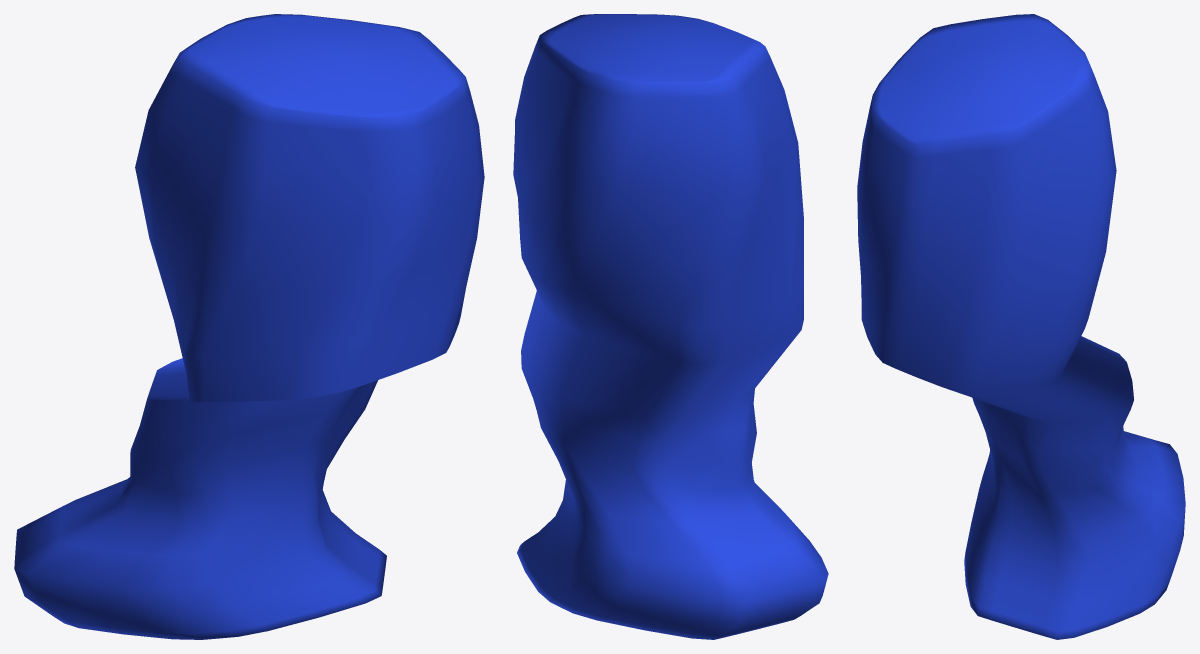
Rendered from SceneRockSMOOTH.FBX.
3 renders of one model, left to right at view 1: azimuth 30°, elevation 25°; view 2: azimuth 150°, elevation 25°; view 3: azimuth 270°, elevation 25°, orthographic. The views are drawn at different scales.
Visible parts, largest first — view 1: SceneRockSMOOTH_LP; view 2: SceneRockSMOOTH_LP; view 3: SceneRockSMOOTH_LP.
Boxes of the visible parts, x1,y1,x2,y2 form: SceneRockSMOOTH_LP: (14, 14, 484, 639); SceneRockSMOOTH_LP: (513, 14, 828, 639); SceneRockSMOOTH_LP: (857, 14, 1185, 639).
Bounding box in the file's own units: 14.37 × 19.64 × 11.01.
